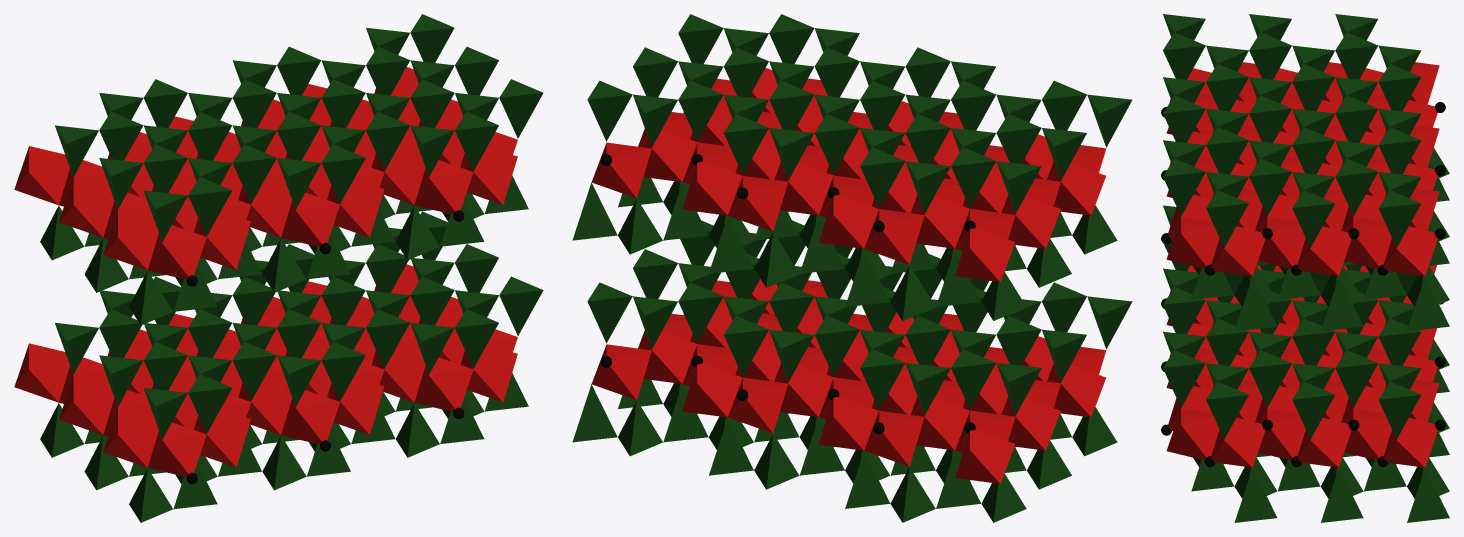
The model's file is Pirofilita.obj.
3 renders of one model, left to right at view 1: azimuth 30°, elevation 25°; view 2: azimuth 150°, elevation 25°; view 3: azimuth 270°, elevation 25°, orthographic. The views are drawn at different scales.
Parts seen in each view (by area): view 1: Folha_tetraedrica_Gb.005_Solid.621, Folha_tetraedrica_Gb.003_Solid.618, Folha_Gibbsita.003_Solid.619, Folha_Gibbsita.002_Solid.616, Folha_tetraedrica_Gb.004_Solid.620, Folha_tetraedrica_Gb.002_Solid.617; view 2: Folha_tetraedrica_Gb.005_Solid.621, Folha_Gibbsita.003_Solid.619, Folha_Gibbsita.002_Solid.616, Folha_tetraedrica_Gb.003_Solid.618, Folha_tetraedrica_Gb.002_Solid.617, Folha_tetraedrica_Gb.004_Solid.620, hidroxila_topo_Sphere.005, hidroxila_topo.001_Sphere.008; view 3: Folha_tetraedrica_Gb.005_Solid.621, Folha_Gibbsita.003_Solid.619, Folha_tetraedrica_Gb.003_Solid.618, Folha_Gibbsita.002_Solid.616, Folha_tetraedrica_Gb.002_Solid.617, Folha_tetraedrica_Gb.004_Solid.620, hidroxila_topo.001_Sphere.008, hidroxila_base_Sphere.007, hidroxila_topo_Sphere.005, hidroxila_base.001_Sphere.009.
Part boxes in pixels (x1=…): Folha_tetraedrica_Gb.005_Solid.621: x1=55, y1=14, x2=543, y2=241; Folha_tetraedrica_Gb.003_Solid.618: x1=55, y1=211, x2=543, y2=439; Folha_Gibbsita.003_Solid.619: x1=14, y1=67, x2=517, y2=279; Folha_Gibbsita.002_Solid.616: x1=14, y1=264, x2=517, y2=476; Folha_tetraedrica_Gb.004_Solid.620: x1=40, y1=122, x2=528, y2=325; Folha_tetraedrica_Gb.002_Solid.617: x1=40, y1=319, x2=528, y2=522; Folha_tetraedrica_Gb.005_Solid.621: x1=587, y1=14, x2=1132, y2=213; Folha_Gibbsita.003_Solid.619: x1=591, y1=68, x2=1106, y2=282; Folha_Gibbsita.002_Solid.616: x1=591, y1=279, x2=1106, y2=483; Folha_tetraedrica_Gb.003_Solid.618: x1=587, y1=220, x2=1132, y2=415; Folha_tetraedrica_Gb.002_Solid.617: x1=572, y1=379, x2=1117, y2=522; Folha_tetraedrica_Gb.004_Solid.620: x1=572, y1=177, x2=1117, y2=320; hidroxila_topo_Sphere.005: x1=600, y1=355, x2=975, y2=434; hidroxila_topo.001_Sphere.008: x1=600, y1=154, x2=975, y2=232; Folha_tetraedrica_Gb.005_Solid.621: x1=1163, y1=14, x2=1421, y2=247; Folha_Gibbsita.003_Solid.619: x1=1166, y1=62, x2=1439, y2=276; Folha_tetraedrica_Gb.003_Solid.618: x1=1163, y1=205, x2=1421, y2=439; Folha_Gibbsita.002_Solid.616: x1=1166, y1=265, x2=1439, y2=467; Folha_tetraedrica_Gb.002_Solid.617: x1=1191, y1=339, x2=1449, y2=522; Folha_tetraedrica_Gb.004_Solid.620: x1=1191, y1=148, x2=1449, y2=331; hidroxila_topo.001_Sphere.008: x1=1262, y1=102, x2=1445, y2=239; hidroxila_base_Sphere.007: x1=1161, y1=298, x2=1388, y2=467; hidroxila_topo_Sphere.005: x1=1262, y1=302, x2=1445, y2=430; hidroxila_base.001_Sphere.009: x1=1161, y1=107, x2=1388, y2=275.
Bounding box in the file's own units: 1.32 × 0.9869 × 0.8212.
